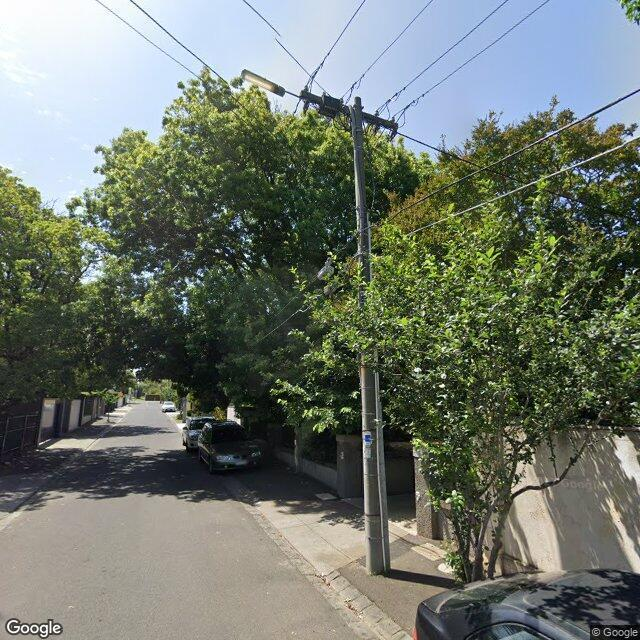crossarm: (299, 89, 398, 131)
streetlight: (240, 68, 300, 99)
timber-pole: (351, 96, 391, 576)
